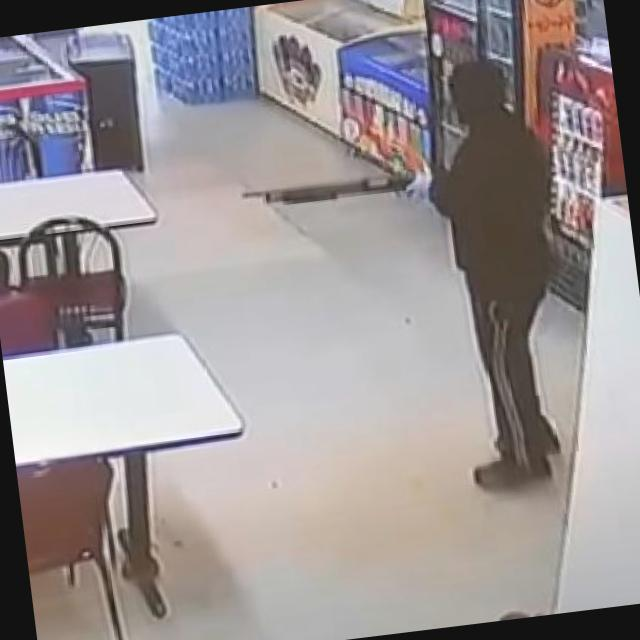Person: (406, 36, 594, 512)
